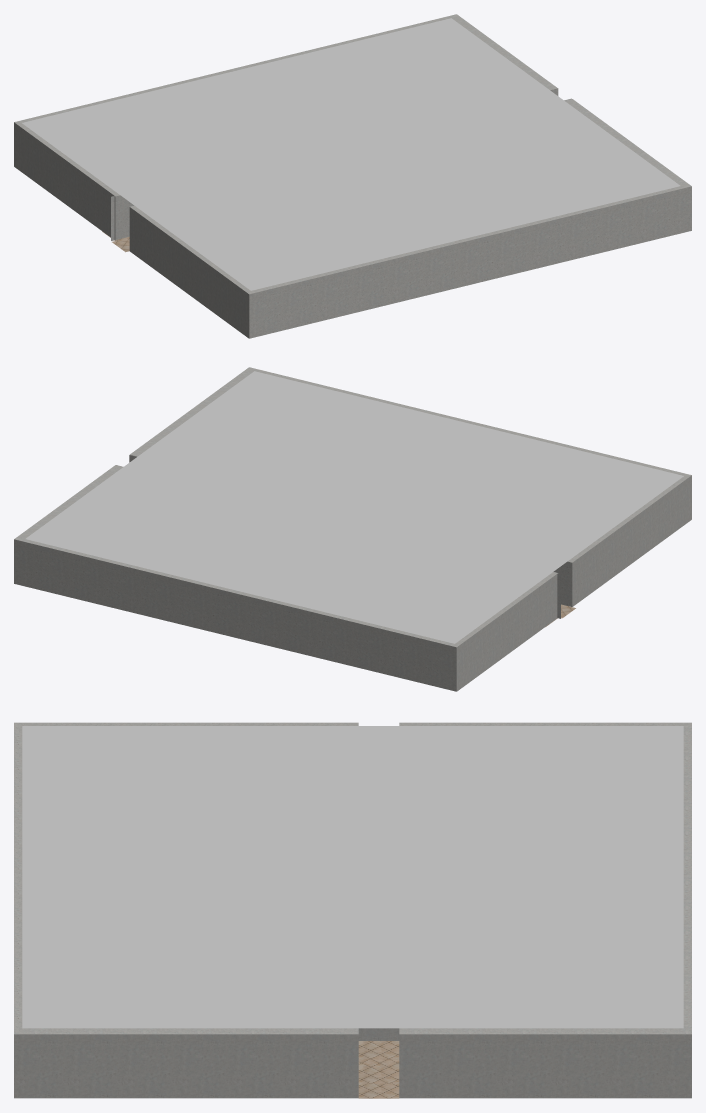
File: Maze2.fbx
The picture shows the model from 3 angles, top to bottom: view 1: azimuth 30°, elevation 25°; view 2: azimuth 150°, elevation 25°; view 3: azimuth 270°, elevation 25°; orthographic projection. The views are drawn at different scales.
Parts seen in each view (by area): view 1: Ceiling, Plane; view 2: Ceiling, Plane; view 3: Ceiling, Plane.
Boxes of the visible parts, x1=… form: Ceiling: x1=22, y1=18, x2=680, y2=290; Plane: x1=14, y1=14, x2=691, y2=338; Ceiling: x1=25, y1=371, x2=683, y2=643; Plane: x1=14, y1=367, x2=691, y2=691; Ceiling: x1=22, y1=726, x2=683, y2=1028; Plane: x1=14, y1=722, x2=691, y2=1098.
Bounding box in the file's own units: 2525 × 241 × 2300.
